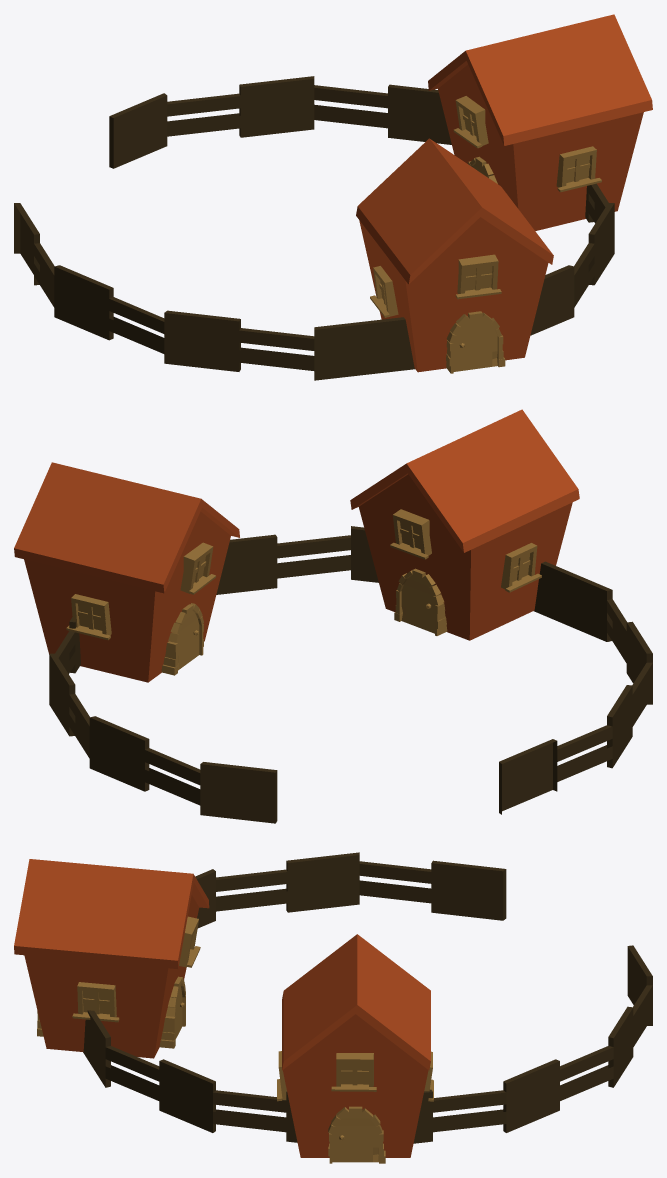
Rendered from Village.glb.
3 renders of one model, top to bottom at view 1: azimuth 30°, elevation 25°; view 2: azimuth 150°, elevation 25°; view 3: azimuth 270°, elevation 25°, orthographic. The views are drawn at different scales.
Parts seen in each view (by area): view 1: Circle, Cube, Cube.001; view 2: Cube.001, Cube, Circle; view 3: Circle, Cube.001, Cube.
Boxes of the visible parts, left/top/right/bottom form: Circle: left=14, top=76, right=614, bottom=380; Cube: left=428, top=14, right=652, bottom=230; Cube.001: left=356, top=138, right=553, bottom=373; Cube.001: left=350, top=409, right=579, bottom=640; Cube: left=14, top=462, right=239, bottom=682; Circle: left=49, top=526, right=652, bottom=823; Circle: left=83, top=852, right=652, bottom=1143; Cube.001: left=14, top=859, right=209, bottom=1058; Cube: left=277, top=934, right=433, bottom=1163.
Bounding box in the file's own units: 11.52 × 3.38 × 11.63.
Materials: 5 (5 with a texture image).
